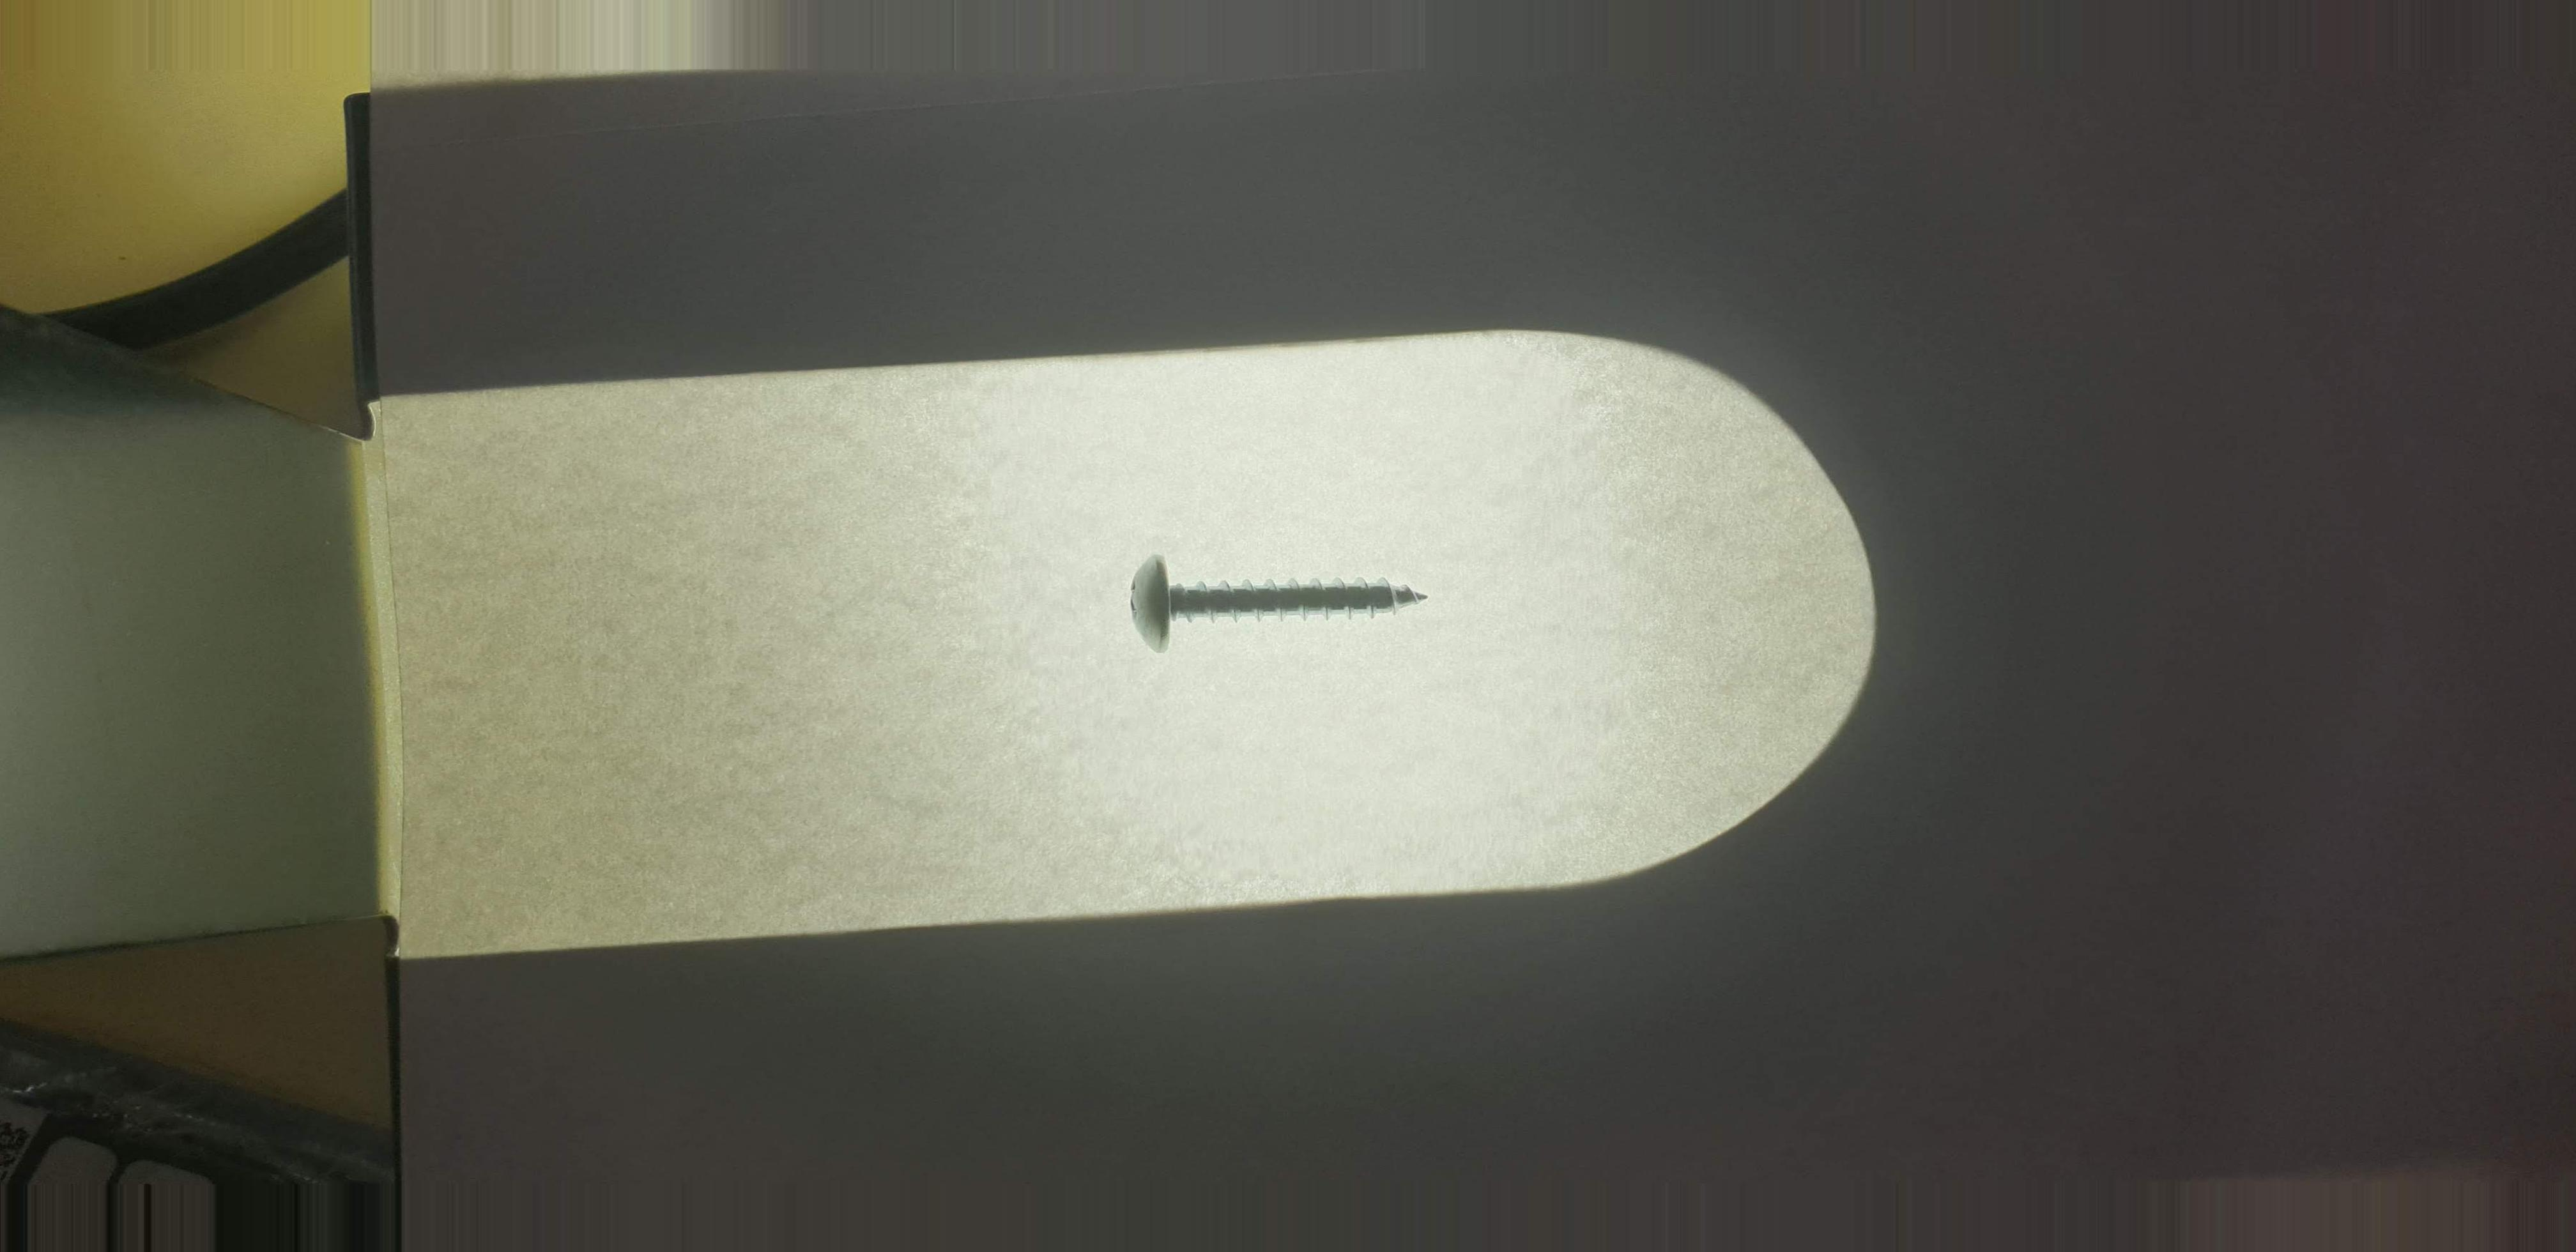S002: (1096, 542, 1447, 669)
